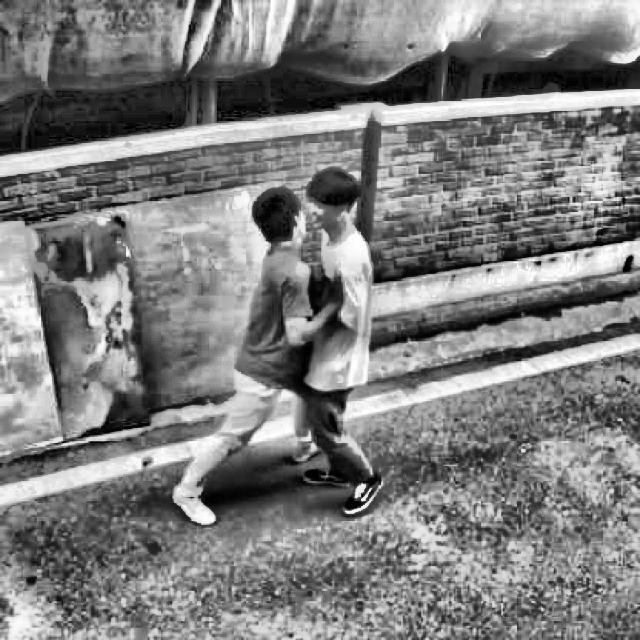robbery: (147, 156, 406, 534)
